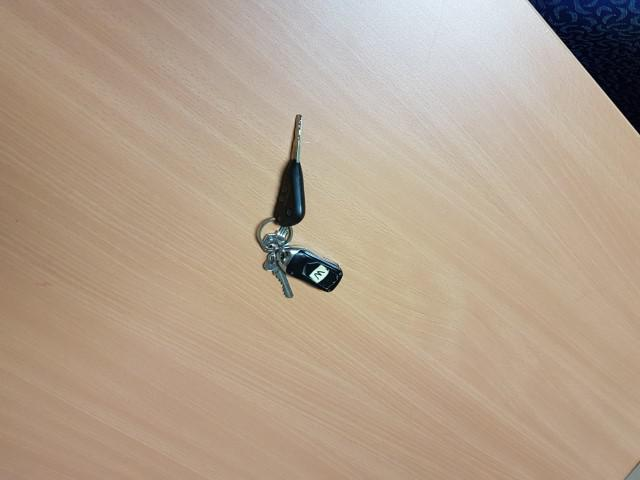key: (262, 109, 316, 230)
